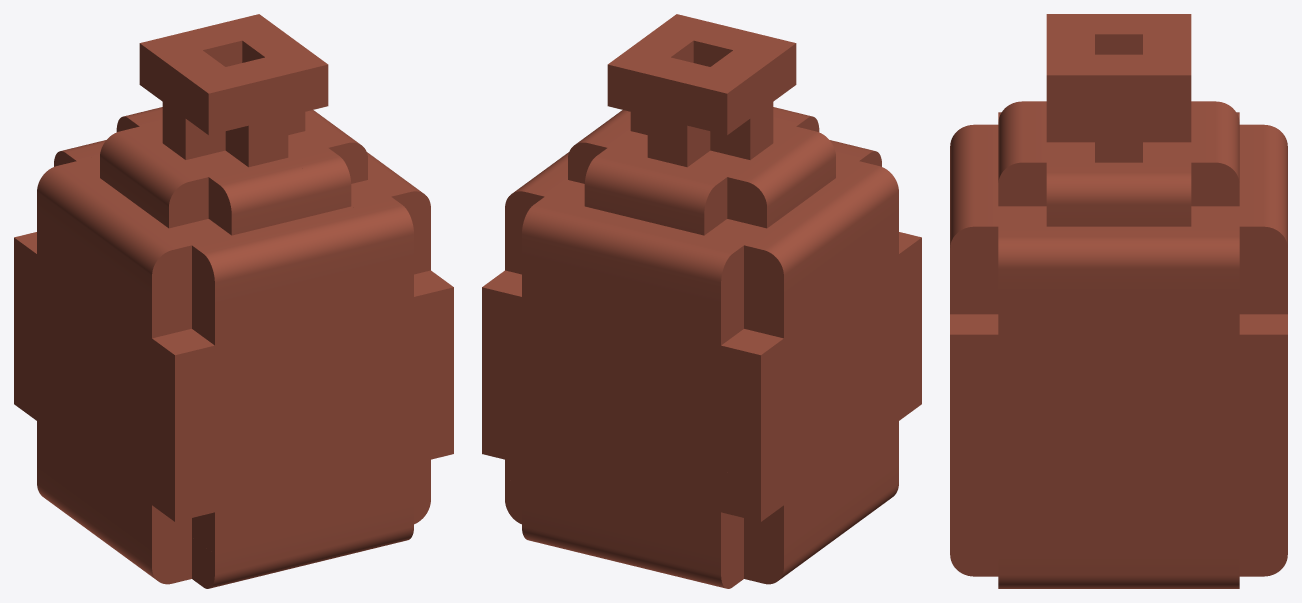
File: Pot1.fbx
The picture shows the model from 3 angles, left to right: view 1: azimuth 30°, elevation 25°; view 2: azimuth 150°, elevation 25°; view 3: azimuth 270°, elevation 25°; orthographic projection. The views are drawn at different scales.
Parts seen in each view (by area): view 1: mergedBlocks; view 2: mergedBlocks; view 3: mergedBlocks.
Boxes of the visible parts, x1,y1,x2,y2 form: mergedBlocks: [14, 14, 453, 588]; mergedBlocks: [482, 14, 921, 588]; mergedBlocks: [950, 14, 1287, 588].
Size of the model in its own units: 2.24 by 3.52 by 2.24.
